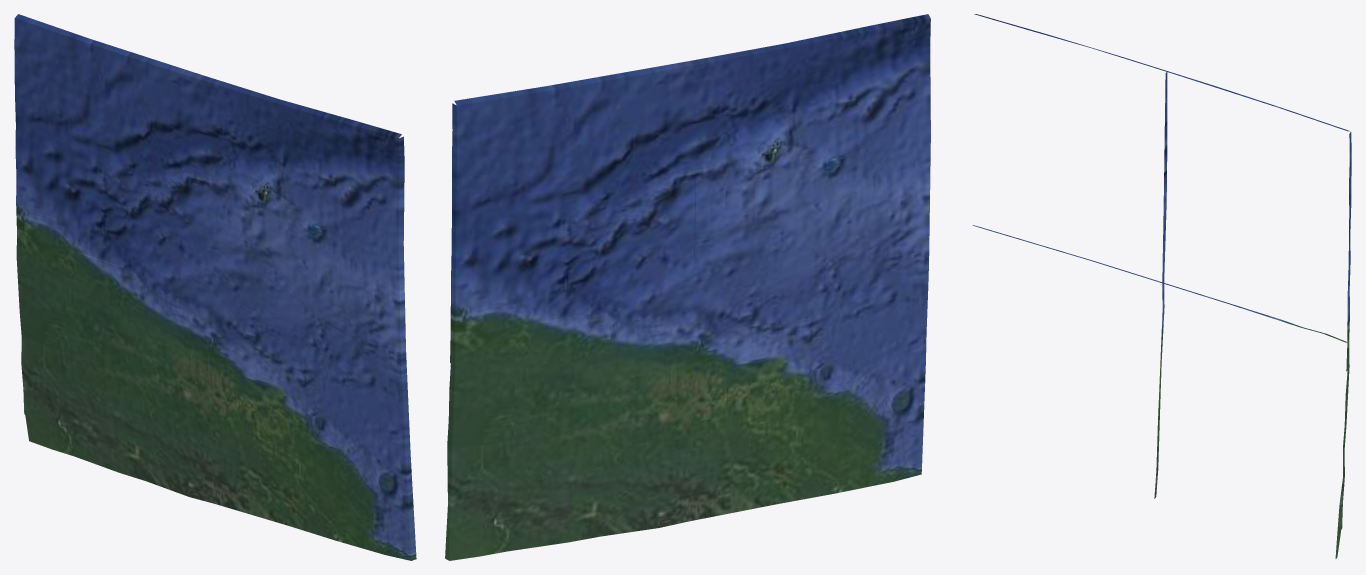
The picture shows the model from 3 angles, left to right: view 1: azimuth 90°, elevation 25°; view 2: azimuth 150°, elevation 25°; view 3: azimuth 270°, elevation 25°; orthographic projection. The views are drawn at different scales.
Bounding box in the file's own units: 402721 × 628582 × 527988.
Materials: 1 (1 with a texture image).
